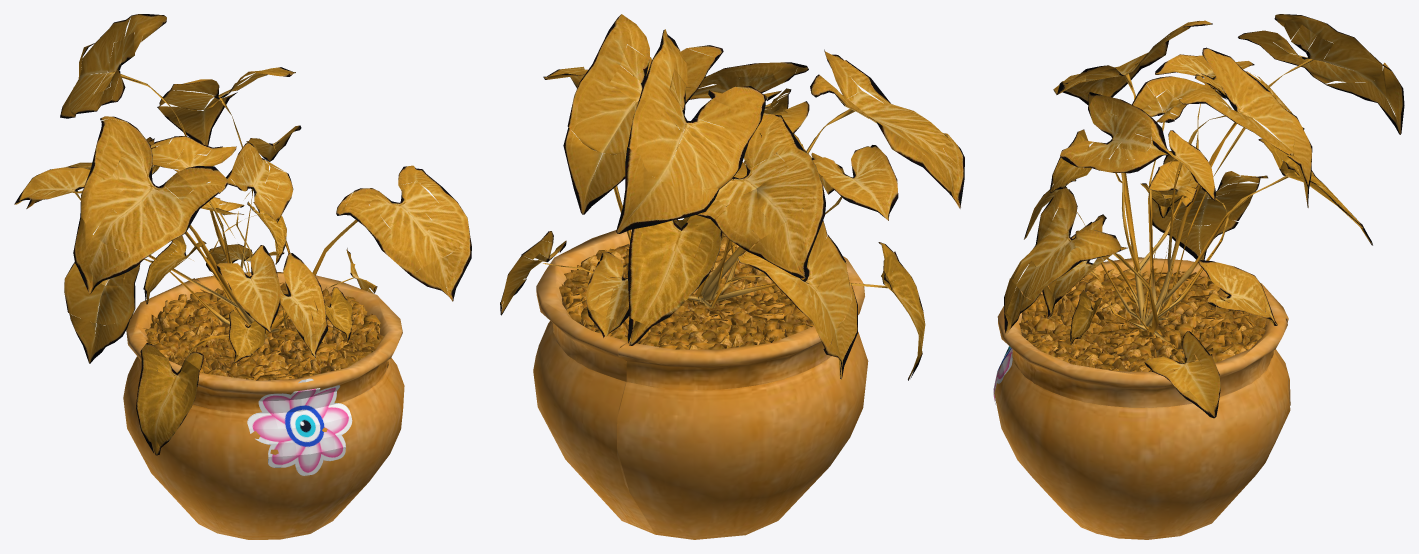
File: nyb_kramer_plant.glb
The picture shows the model from 3 angles, left to right: view 1: azimuth 30°, elevation 25°; view 2: azimuth 150°, elevation 25°; view 3: azimuth 270°, elevation 25°; orthographic projection. The views are drawn at different scales.
Parts seen in each view (by area): view 1: potted_plant_02_pot, stk_eyeflower_die.png; view 2: potted_plant_02_pot; view 3: potted_plant_02_pot.
Boxes of the visible parts, x1,y1,x2,y2 form: potted_plant_02_pot: (14, 14, 471, 539); stk_eyeflower_die.png: (247, 378, 352, 475); potted_plant_02_pot: (500, 14, 964, 539); potted_plant_02_pot: (994, 14, 1404, 539).
Size of the model in its own units: 0.7008 by 0.8423 by 0.6593.
3 materials, 3 textured.
